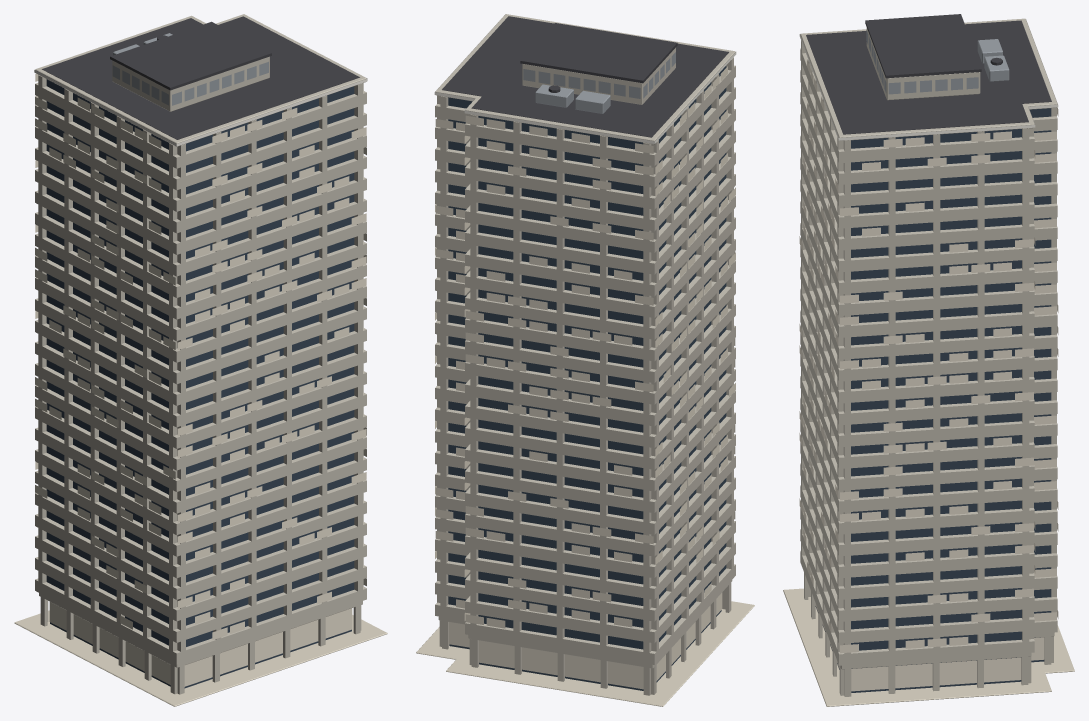
File: 180-montgomery-street.glb
The picture shows the model from 3 angles, left to right: view 1: azimuth 30°, elevation 25°; view 2: azimuth 150°, elevation 25°; view 3: azimuth 270°, elevation 25°; orthographic projection.
Visible parts, largest first — view 1: 180-montgomery-street_body, 180-montgomery-street_night_glow; view 2: 180-montgomery-street_body, 180-montgomery-street_night_glow; view 3: 180-montgomery-street_body, 180-montgomery-street_night_glow.
Part boxes in pixels (x1,y1,x2,y2): 180-montgomery-street_body: (14,14,387,706); 180-montgomery-street_night_glow: (34,69,367,686); 180-montgomery-street_body: (416,14,754,706); 180-montgomery-street_night_glow: (434,16,736,689); 180-montgomery-street_body: (783,14,1074,706); 180-montgomery-street_night_glow: (799,19,1058,691).
Size of the model in its own units: 53.33 by 110 by 49.34.
